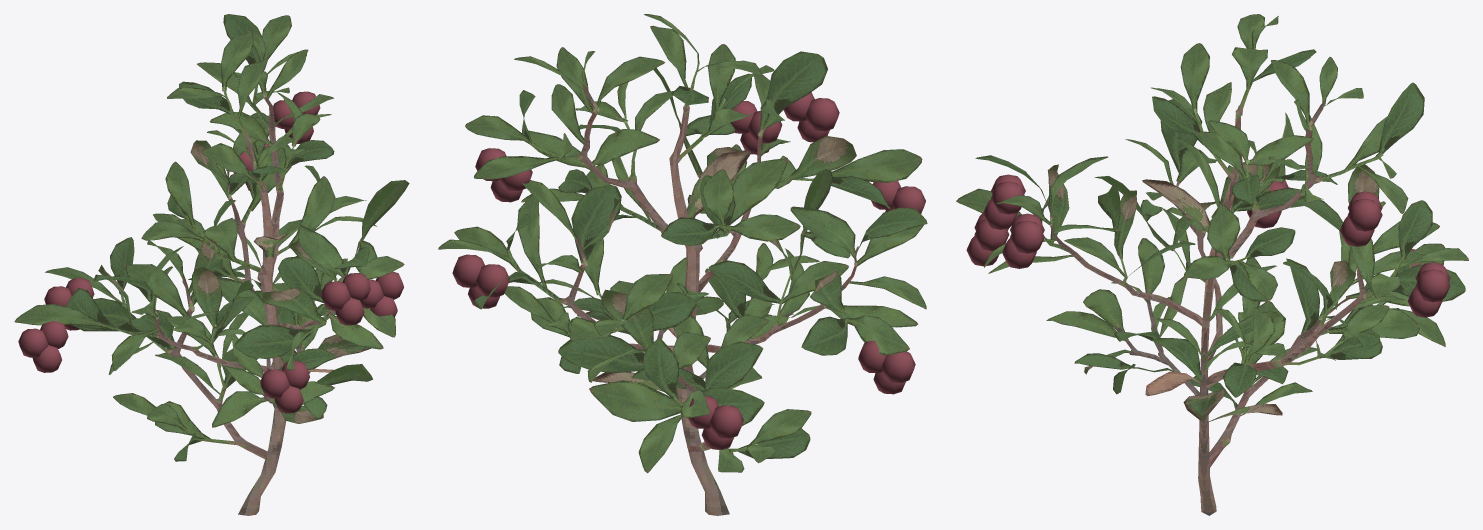
File: rooted-berries-weathered.glb
3 views of the same model, side by side, from view 1: azimuth 30°, elevation 25°; view 2: azimuth 150°, elevation 25°; view 3: azimuth 270°, elevation 25° (orthographic). The views are drawn at different scales.
Parts seen in each view (by area): view 1: rooted-berries-weathered runtime mesh; view 2: rooted-berries-weathered runtime mesh; view 3: rooted-berries-weathered runtime mesh.
Boxes of the visible parts, left/top/right/bottom form: rooted-berries-weathered runtime mesh: left=14, top=14, right=409, bottom=515; rooted-berries-weathered runtime mesh: left=438, top=14, right=927, bottom=515; rooted-berries-weathered runtime mesh: left=956, top=14, right=1468, bottom=515.
Size of the model in its own units: 0.8663 by 1.05 by 0.9674.
2 materials, 1 textured.
